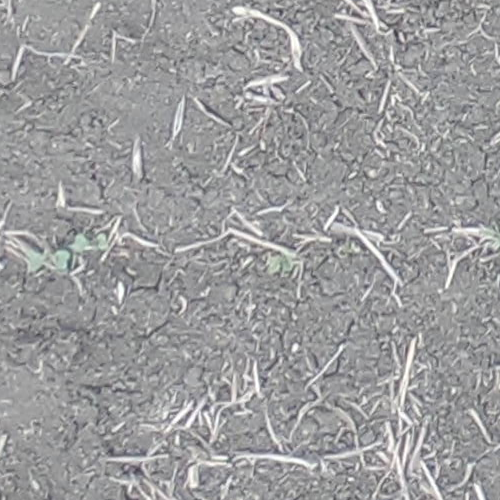isolated: (27, 249, 70, 271), (74, 232, 109, 254), (268, 252, 290, 274)
